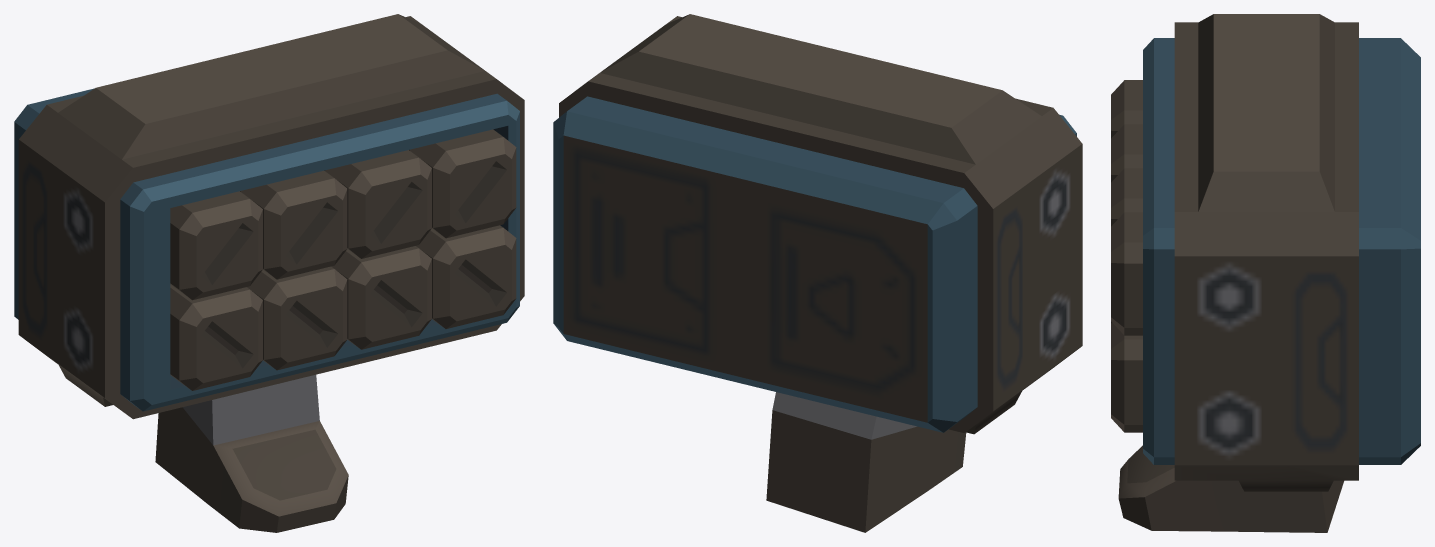
The model's file is SM_Mech_Chest_01_Weapon_Collar_02.fbx.
3 views of the same model, side by side, from view 1: azimuth 30°, elevation 25°; view 2: azimuth 150°, elevation 25°; view 3: azimuth 270°, elevation 25° (orthographic). The views are drawn at different scales.
Parts seen in each view (by area): view 1: SM_Mech_Chest_01_Weapon_Collar_02; view 2: SM_Mech_Chest_01_Weapon_Collar_02; view 3: SM_Mech_Chest_01_Weapon_Collar_02.
Part boxes in pixels (<box>): SM_Mech_Chest_01_Weapon_Collar_02: <box>14,14,524,532</box>; SM_Mech_Chest_01_Weapon_Collar_02: <box>553,14,1082,532</box>; SM_Mech_Chest_01_Weapon_Collar_02: <box>1111,14,1420,532</box>.
Bounding box in the file's own units: 72.16 × 65.78 × 43.2.
